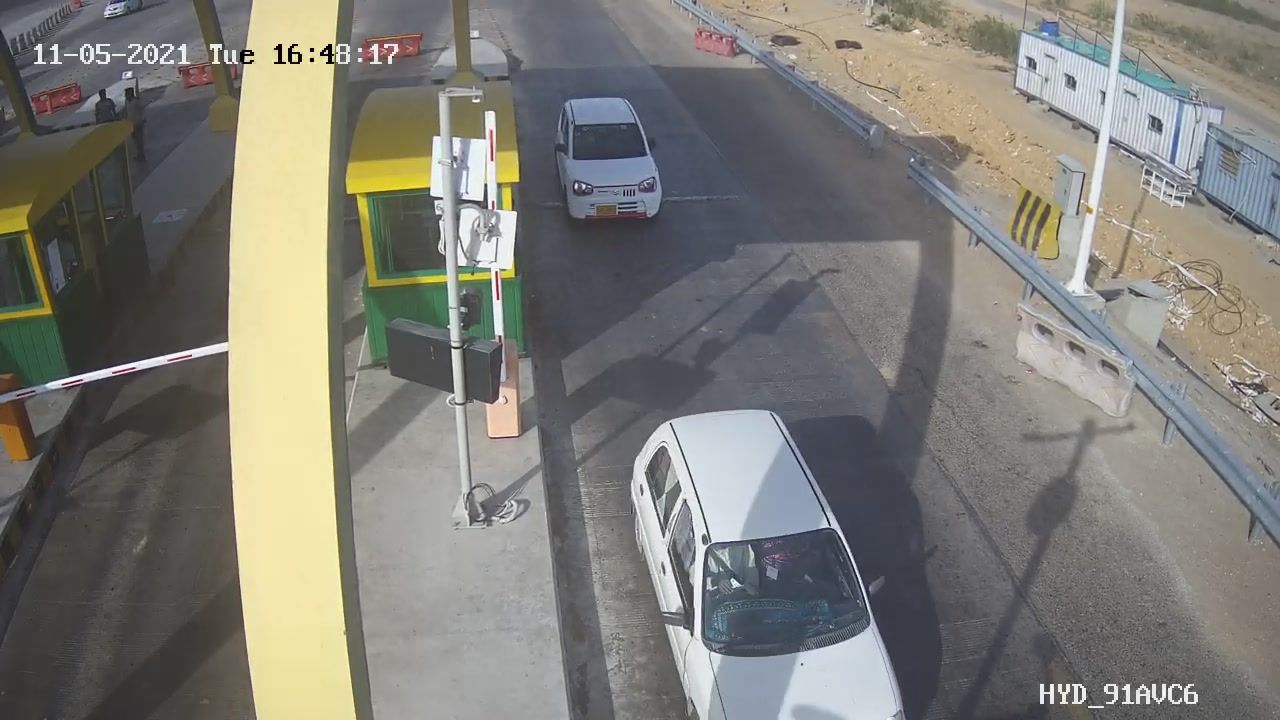F1: (540, 78, 677, 239)
